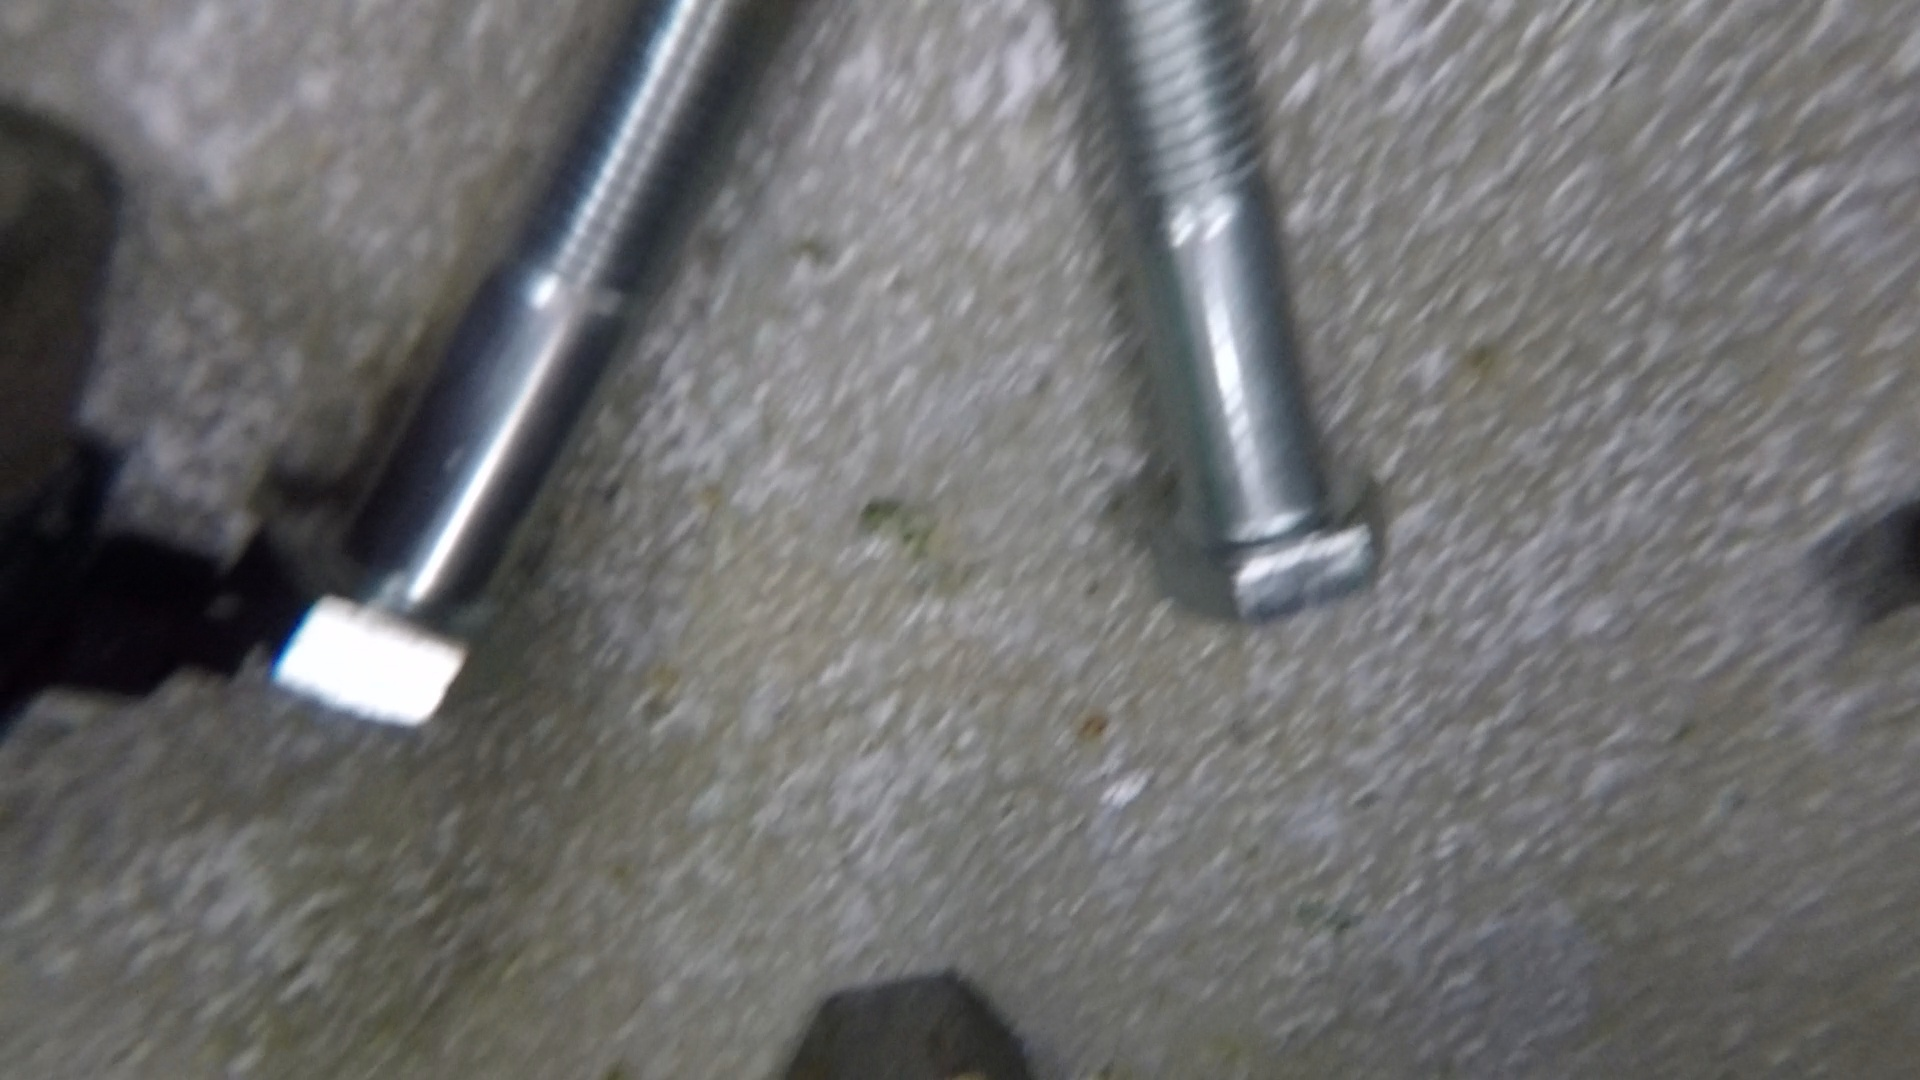bolt: (229, 1, 771, 731), (1093, 1, 1389, 622)
led_block: (1, 107, 262, 757), (774, 975, 1035, 1080)
